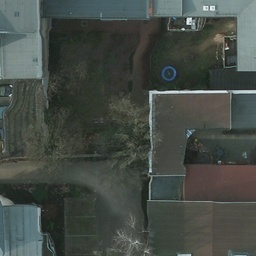car: (0, 105, 3, 118), (0, 127, 2, 143)
